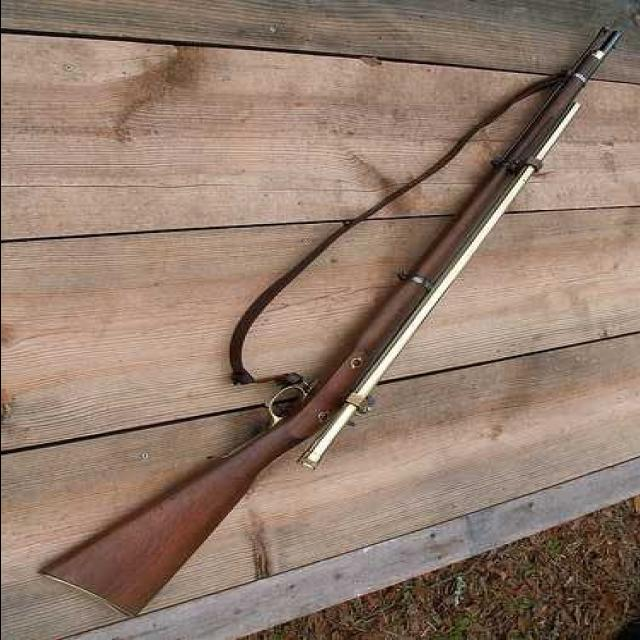heavyweapon: (22, 32, 630, 632)
